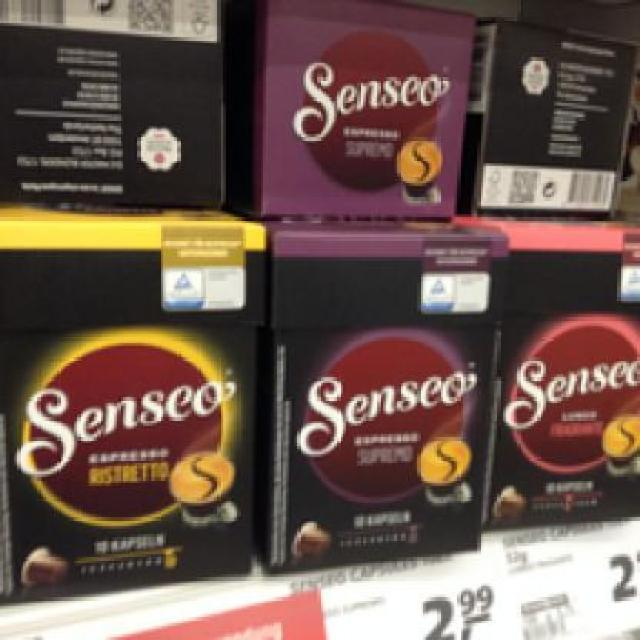Coffee: (0, 197, 263, 600), (263, 220, 503, 563), (248, 0, 474, 223)
